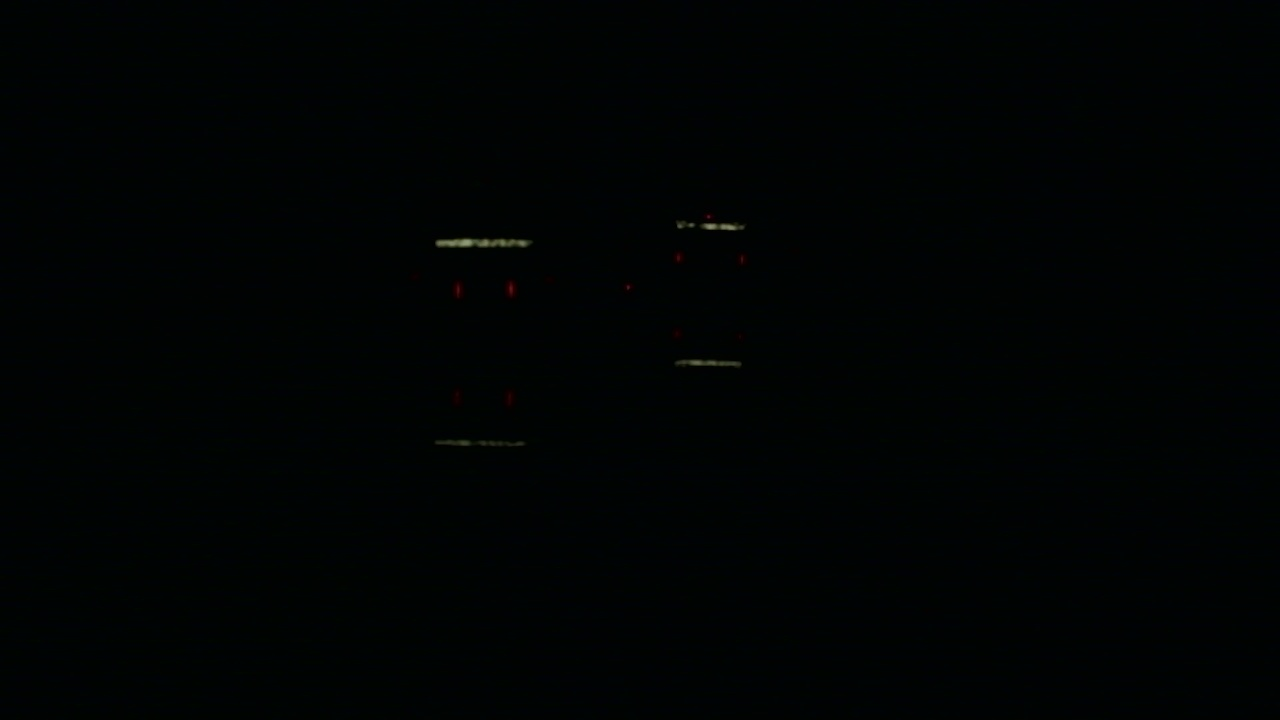lamp: (510, 278, 517, 299), (450, 279, 456, 297), (739, 249, 746, 263), (674, 252, 679, 266)
pair1: (450, 281, 519, 299)
pair2: (675, 252, 747, 265)
